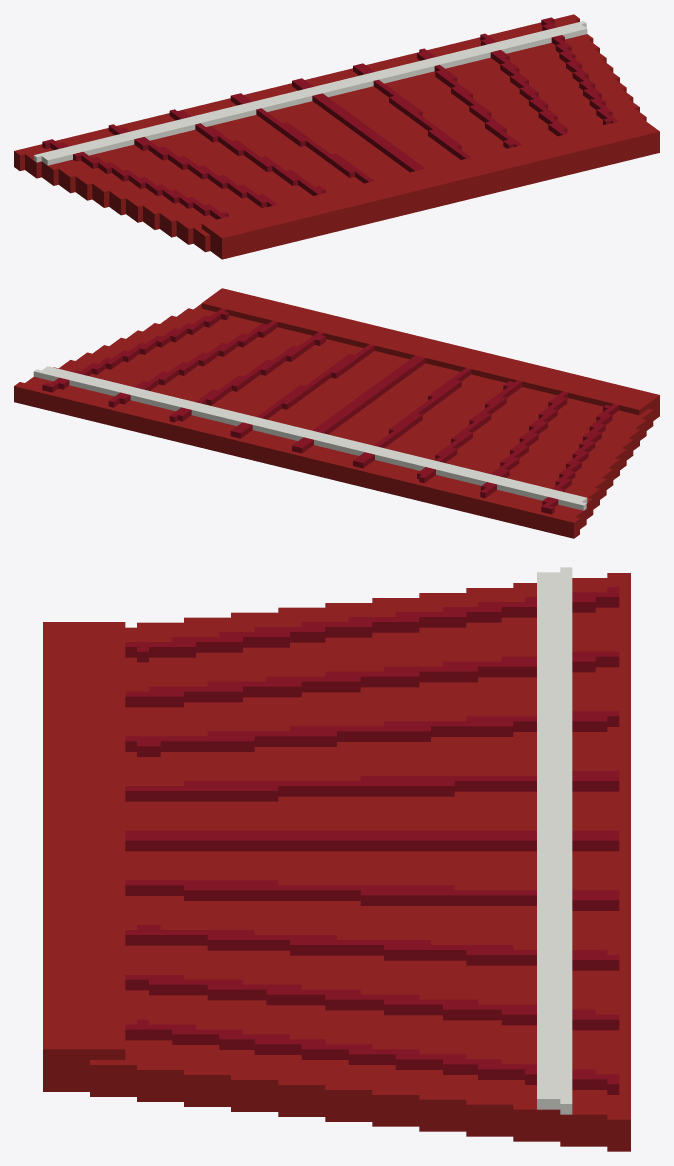
Rendered from cheerleader_skirt_short.glb.
3 views of the same model, one above another, from view 1: azimuth 30°, elevation 25°; view 2: azimuth 150°, elevation 25°; view 3: azimuth 270°, elevation 25° (orthographic). The views are drawn at different scales.
Visible parts, largest first — view 1: cheerleader_skirt_short:compound; view 2: cheerleader_skirt_short:compound; view 3: cheerleader_skirt_short:compound.
Part boxes in pixels (bbox=[...]): cheerleader_skirt_short:compound: bbox=[14, 14, 659, 259]; cheerleader_skirt_short:compound: bbox=[14, 288, 659, 538]; cheerleader_skirt_short:compound: bbox=[43, 567, 630, 1151].
Size of the model in its own units: 0.44 by 0.016 by 0.2.
